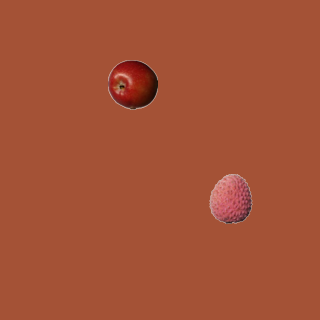Apple Braeburn: (107, 59, 157, 109)
Lychee: (205, 173, 255, 223)
